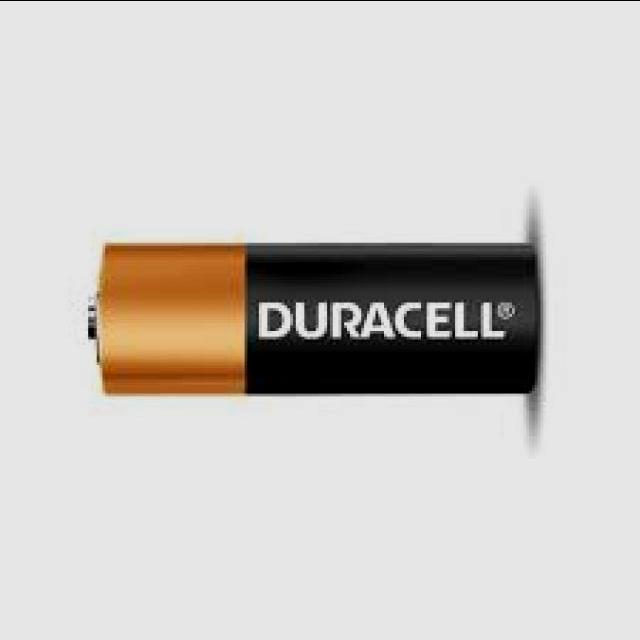AA: (85, 242, 532, 395)
